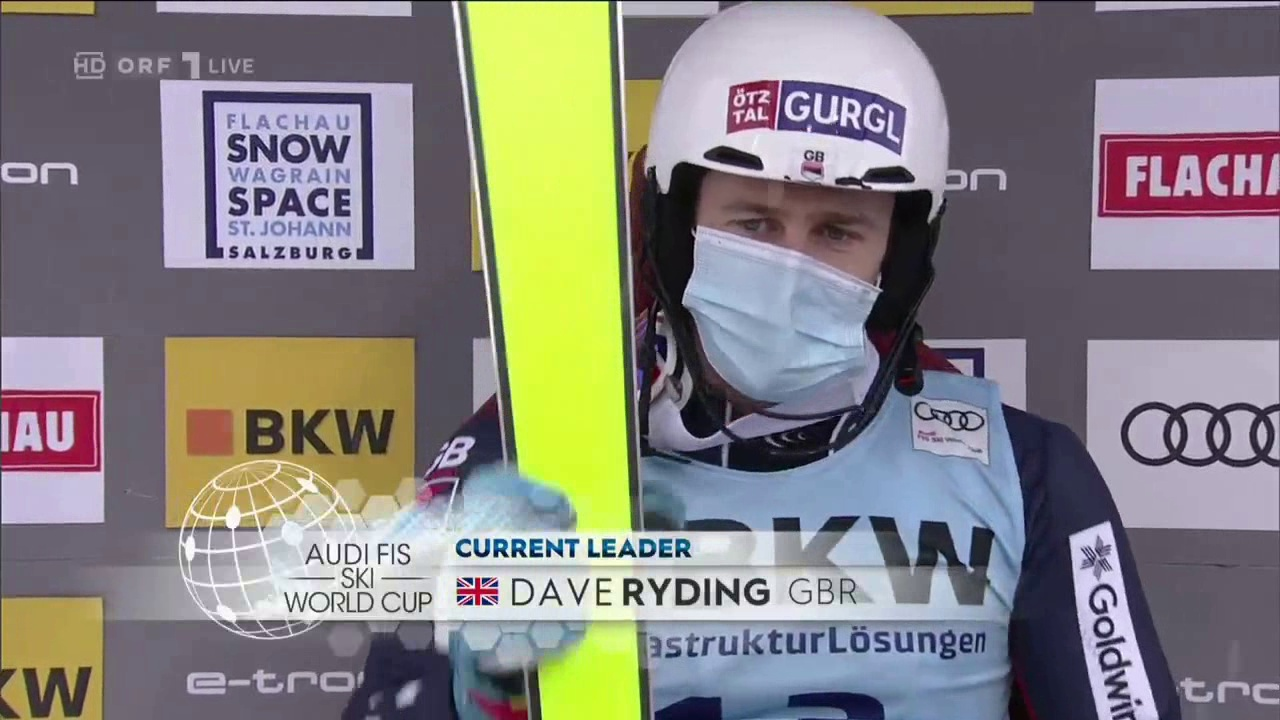BKW: (174, 392, 417, 469)
audi: (1122, 399, 1277, 479), (911, 400, 990, 448)
etron: (184, 666, 359, 705), (1165, 672, 1275, 713)
flachau: (1107, 133, 1274, 220), (1, 383, 98, 473)
